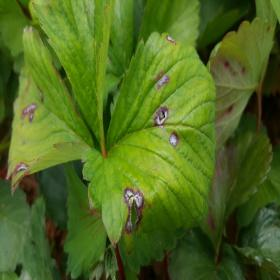Leaf Spot: (81, 31, 217, 255), (6, 25, 95, 195), (205, 17, 276, 154)
